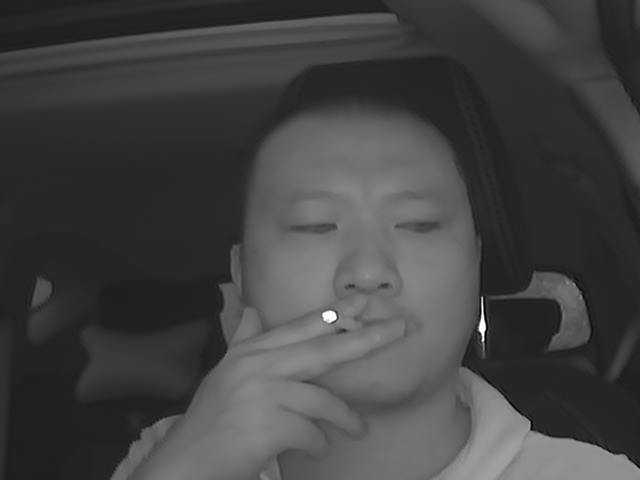hand: (242, 293, 406, 456)
